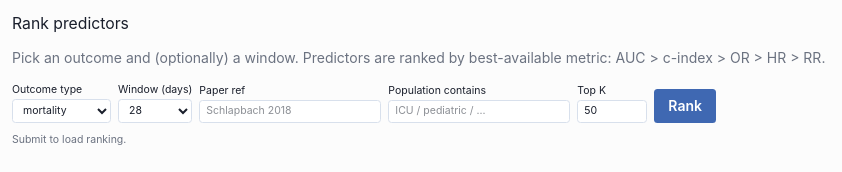
RankPage › surfaces a fetch error
Click the button "Rank" at (685, 106), box [654,89,716,123]
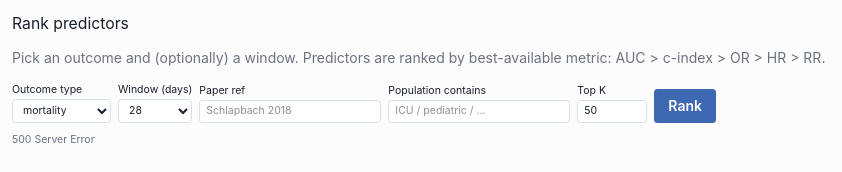
Check: the text "500 Server Error" is shown, box [12,133,95,146]
